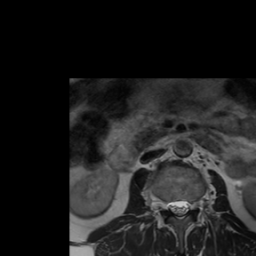CCS_normal: (176, 193, 182, 224)
LFS_stenosis: (189, 195, 196, 215)
LLS_normal: (182, 194, 189, 219)
RFS_normal: (162, 194, 169, 216)
RLS_normal: (169, 195, 176, 217)
